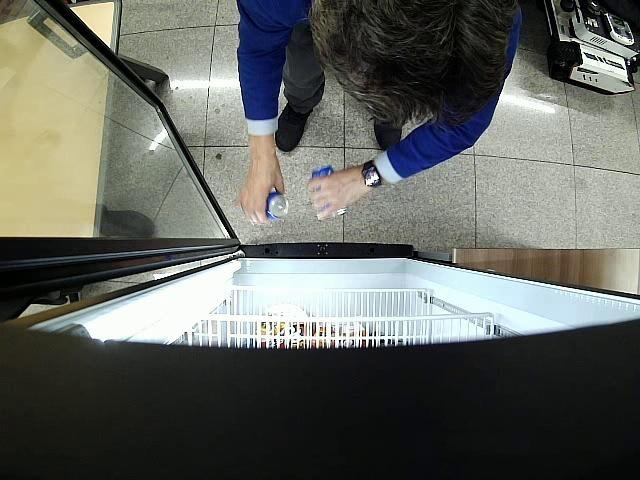13_pocariSweat: (313, 165, 346, 218), (266, 190, 288, 222)
